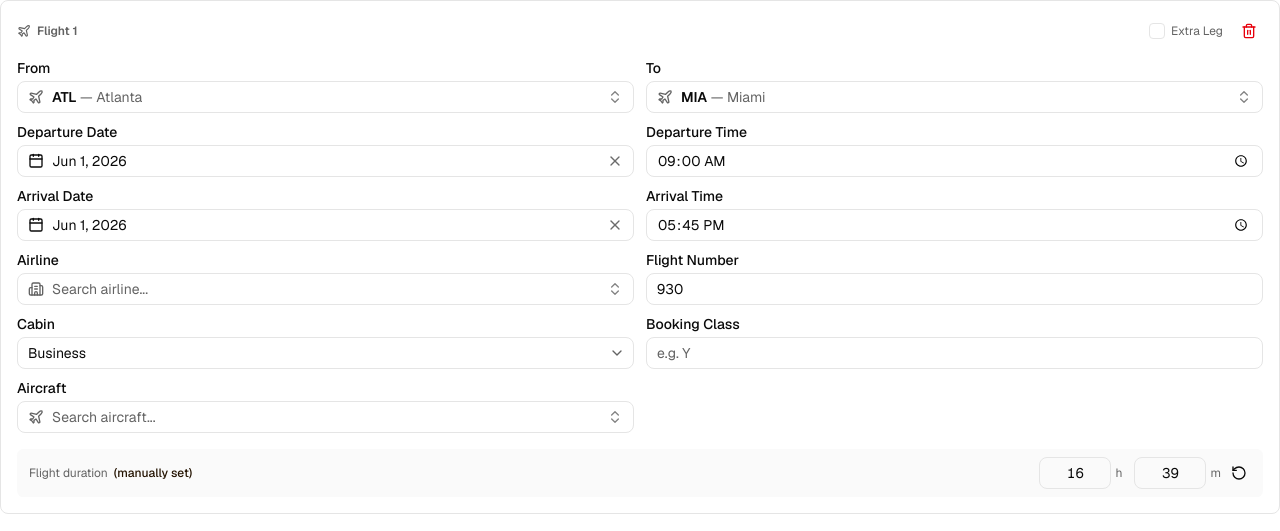
FlightSegmentEditor — duration hours/minutes editor (Pass 13 §3) › clicking Reset to calculated clears the manual override back to null
Click the button named "Reset to calculated duration".
click(1239, 473)  # box [1227,461,1251,485]
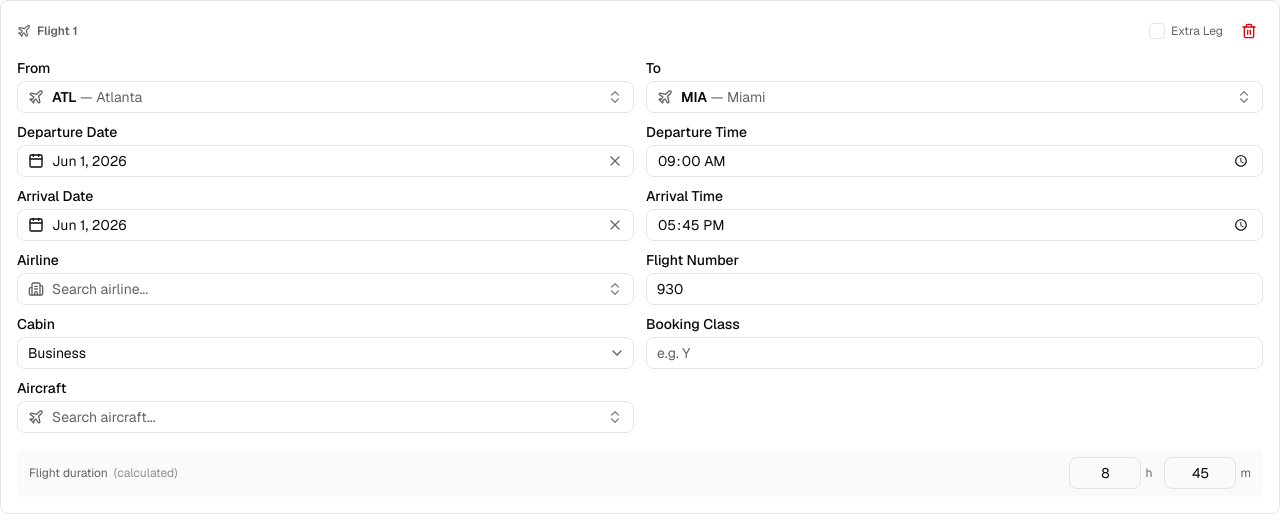
Expected: the number field named "Flight duration — hours" holds "8", [1070,457,1142,489]
Expected: the number field named "Flight duration — minutes" holds "45", [1164,457,1236,489]
Expected: the text "(calculated)" is shown, [114,465,177,481]
